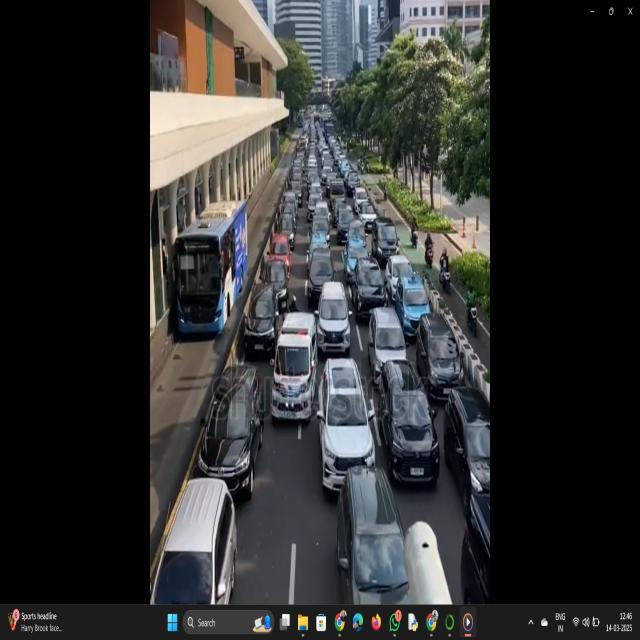Ambulance: (272, 299, 321, 429)
